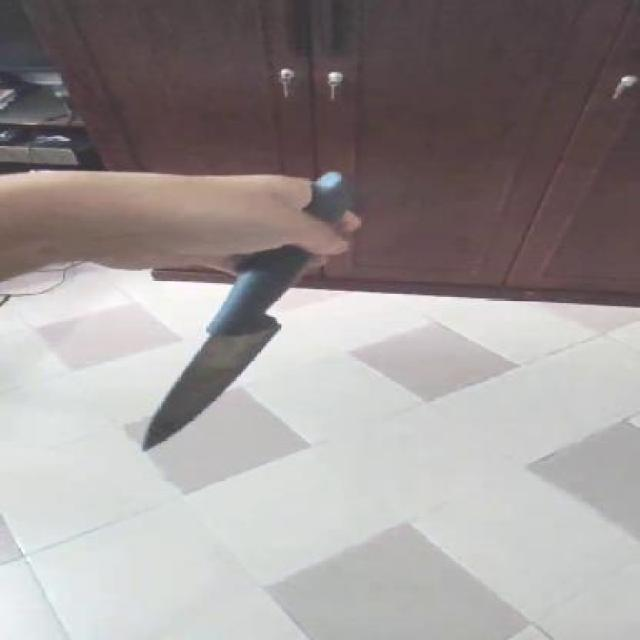knife: (136, 291, 296, 469)
